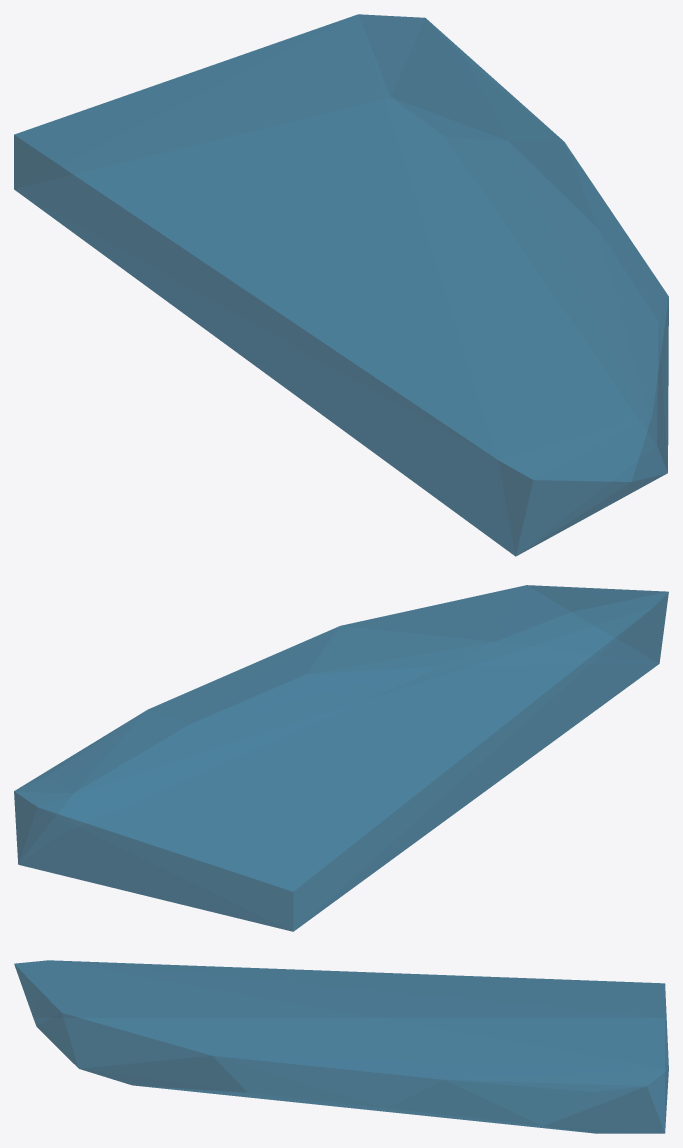
3 renders of one model, top to bottom at view 1: azimuth 30°, elevation 25°; view 2: azimuth 150°, elevation 25°; view 3: azimuth 270°, elevation 25°, orthographic. The views are drawn at different scales.
Visible parts, largest first — view 1: Shape_IndexedFaceSet.066_Shape_IndexedFaceSet.9113; view 2: Shape_IndexedFaceSet.066_Shape_IndexedFaceSet.9113; view 3: Shape_IndexedFaceSet.066_Shape_IndexedFaceSet.9113.
Part boxes in pixels (x1,y1,x2,y2): Shape_IndexedFaceSet.066_Shape_IndexedFaceSet.9113: [14, 14, 668, 556]; Shape_IndexedFaceSet.066_Shape_IndexedFaceSet.9113: [14, 585, 668, 931]; Shape_IndexedFaceSet.066_Shape_IndexedFaceSet.9113: [14, 960, 668, 1133].
Size of the model in its own units: 0.2511 by 0.0528 by 0.5608.
